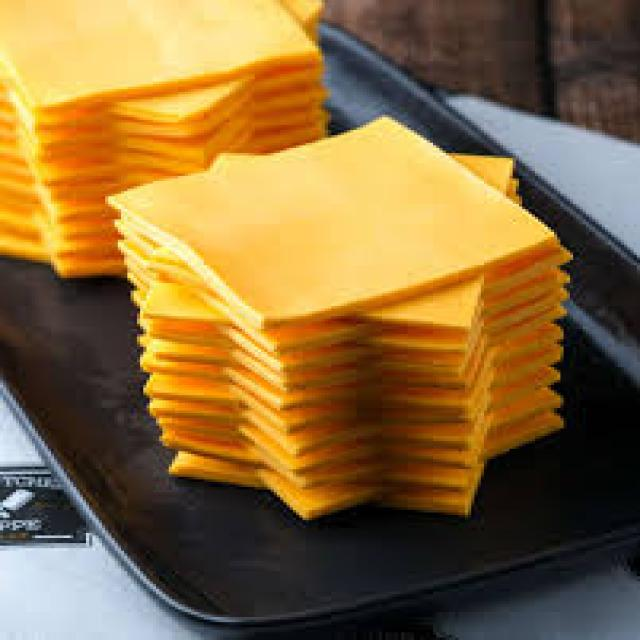cheese: (109, 117, 562, 516)
